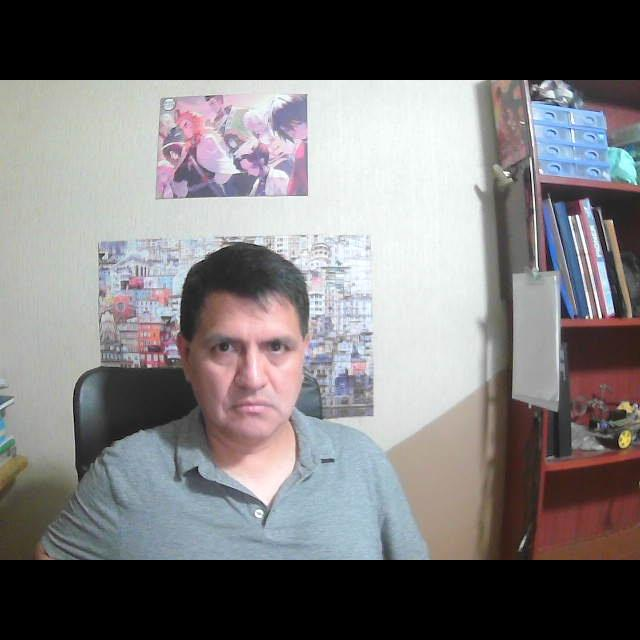cesar: (161, 232, 325, 460)
